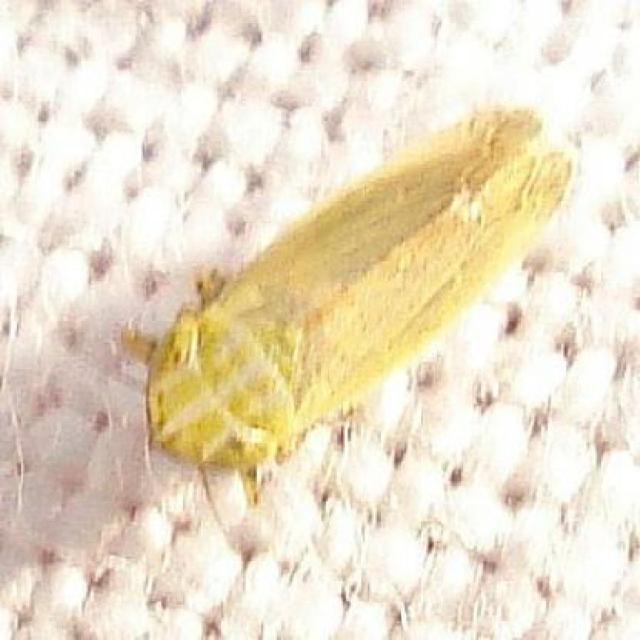green-leafhopper: (151, 116, 566, 470)
